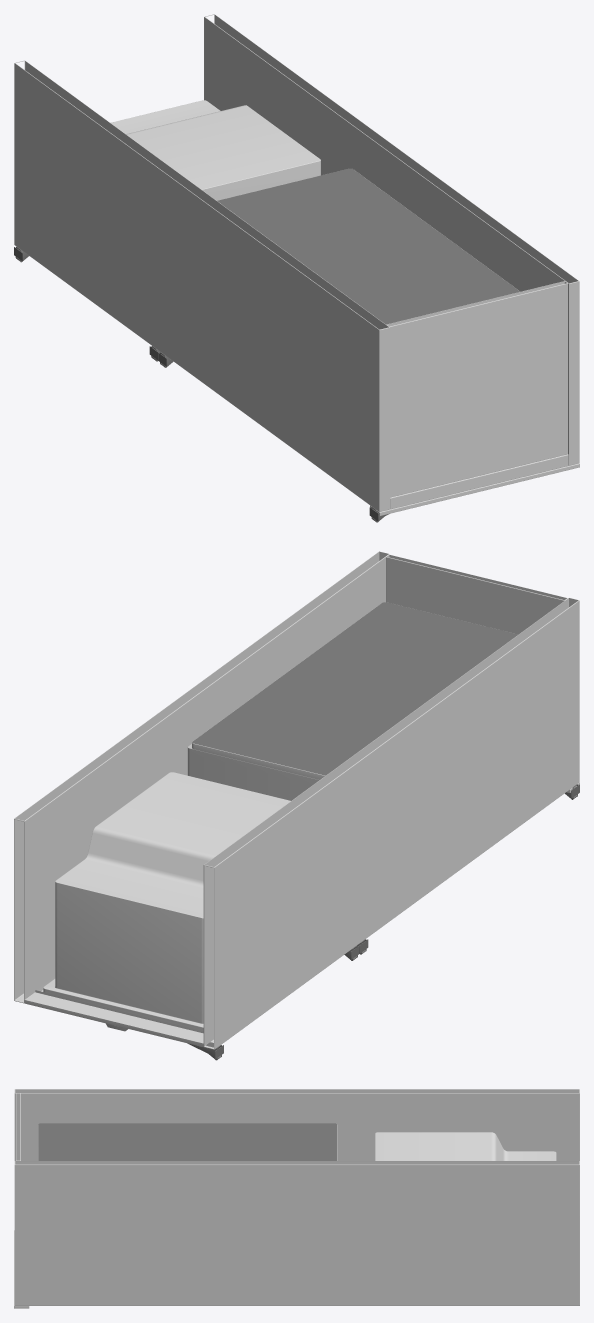
Rendered from SM_Fridge_Base.obj.
3 renders of one model, top to bottom at view 1: azimuth 30°, elevation 25°; view 2: azimuth 150°, elevation 25°; view 3: azimuth 270°, elevation 25°, orthographic. The views are drawn at different scales.
Parts seen in each view (by area): view 1: SM_Fridge_Base; view 2: SM_Fridge_Base; view 3: SM_Fridge_Base.
Boxes of the visible parts, <box> form: SM_Fridge_Base: <box>14,14,579,522</box>; SM_Fridge_Base: <box>14,551,579,1060</box>; SM_Fridge_Base: <box>14,1089,579,1308</box>.
Bounding box in the file's own units: 0.5588 × 0.5163 × 1.76.
Materials: 6 (5 with a texture image).
